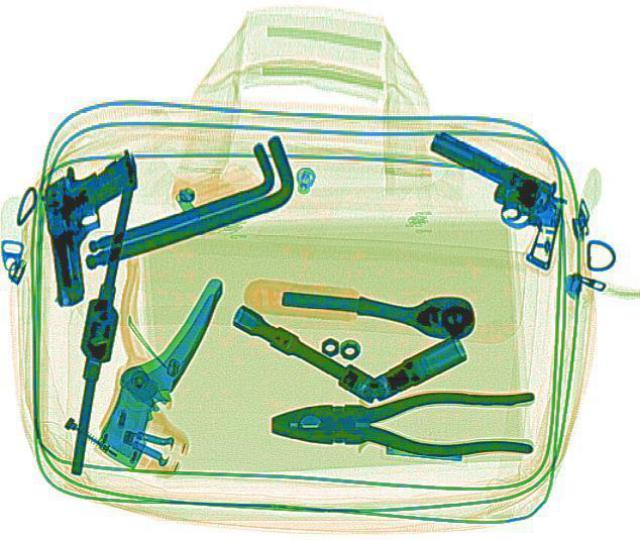Gun: (386, 125, 598, 268), (33, 148, 157, 306)
Pliers: (269, 387, 533, 454)
